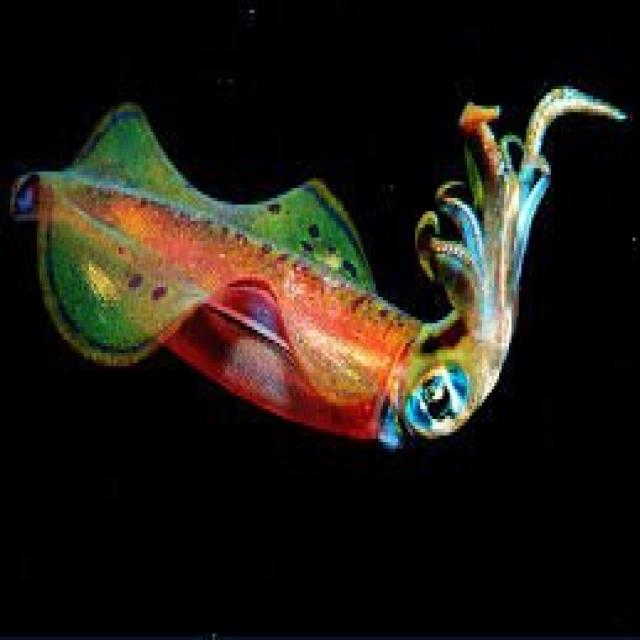squid: (10, 86, 623, 445)
